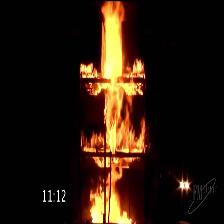fire: (82, 0, 150, 206)
